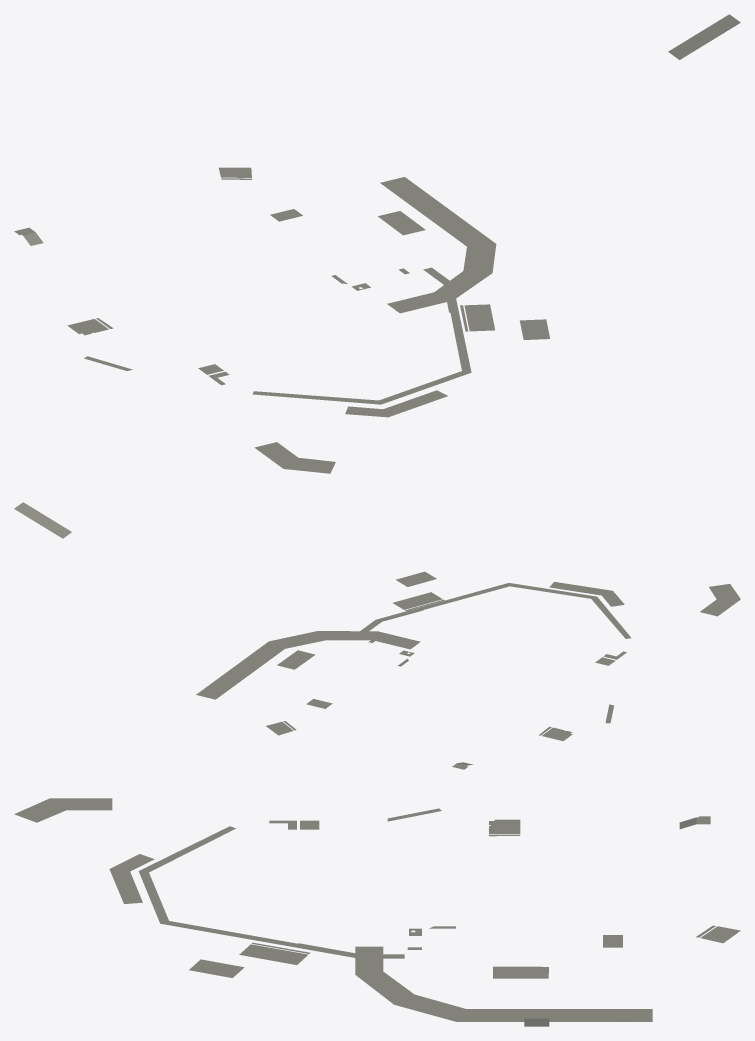
Rendered from kd_stage_136282_1_25.glb.
The picture shows the model from 3 angles, top to bottom: view 1: azimuth 30°, elevation 25°; view 2: azimuth 150°, elevation 25°; view 3: azimuth 270°, elevation 25°; orthographic projection. The views are drawn at different scales.
Parts seen in each view (by area): view 1: kd_stage_136282_1_25; view 2: kd_stage_136282_1_25; view 3: kd_stage_136282_1_25.
Boxes of the visible parts, x1,y1,x2,y2 form: kd_stage_136282_1_25: (14,14,740,473); kd_stage_136282_1_25: (14,502,740,769); kd_stage_136282_1_25: (14,798,740,1026).
Bounding box in the file's own units: 60.48 × 11.32 × 50.98.
1 material, 1 textured.
